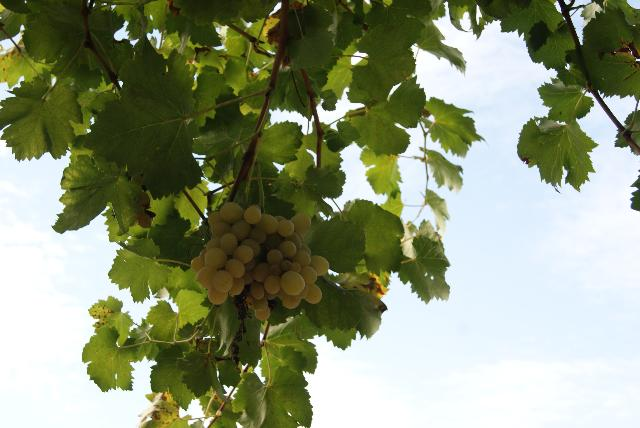grapes: (191, 201, 278, 305), (250, 229, 329, 320)
